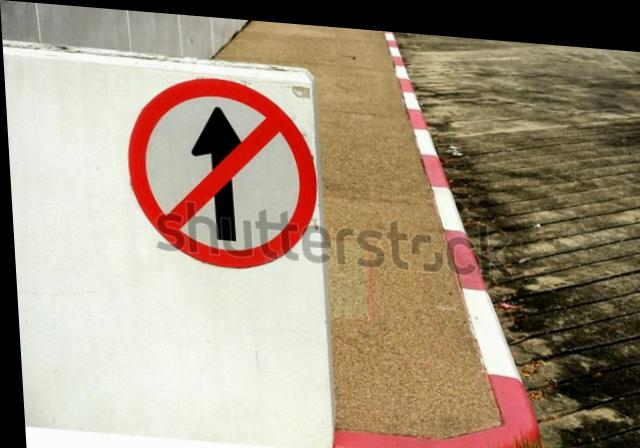not_go_straight: (118, 68, 321, 281)
